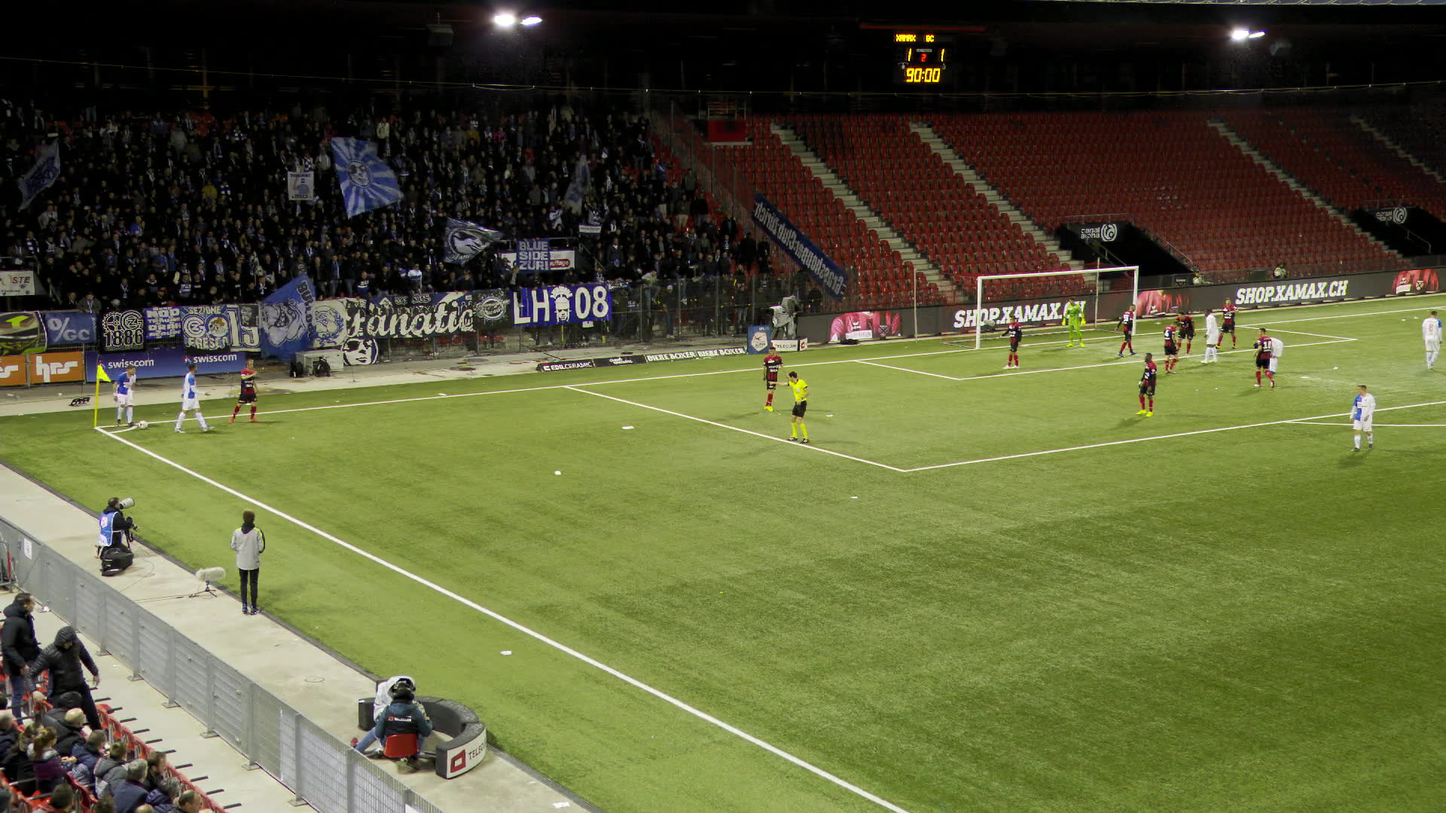ball: (139, 420, 147, 428)
player: (175, 361, 207, 433), (233, 360, 261, 423), (1350, 384, 1375, 451), (1133, 352, 1158, 416), (111, 365, 137, 425), (761, 346, 782, 411), (1252, 327, 1274, 389), (1420, 310, 1441, 370), (1063, 294, 1086, 348), (1000, 315, 1022, 370), (1161, 320, 1181, 374), (1218, 297, 1237, 348), (1257, 336, 1283, 373), (1201, 308, 1218, 364), (1118, 303, 1135, 358), (1176, 312, 1194, 354)
referee: (768, 371, 810, 443)
